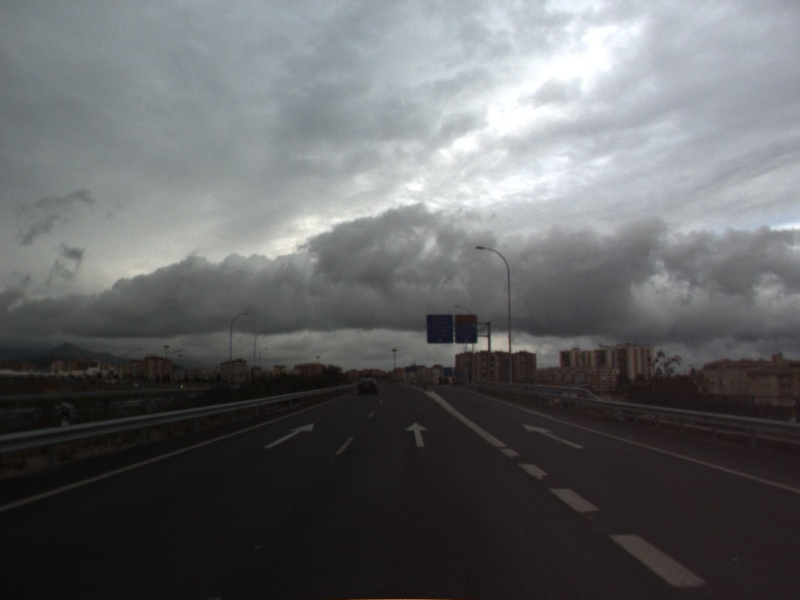STRAIGHT: (520, 422, 586, 450), (262, 421, 316, 450), (403, 420, 431, 449)
